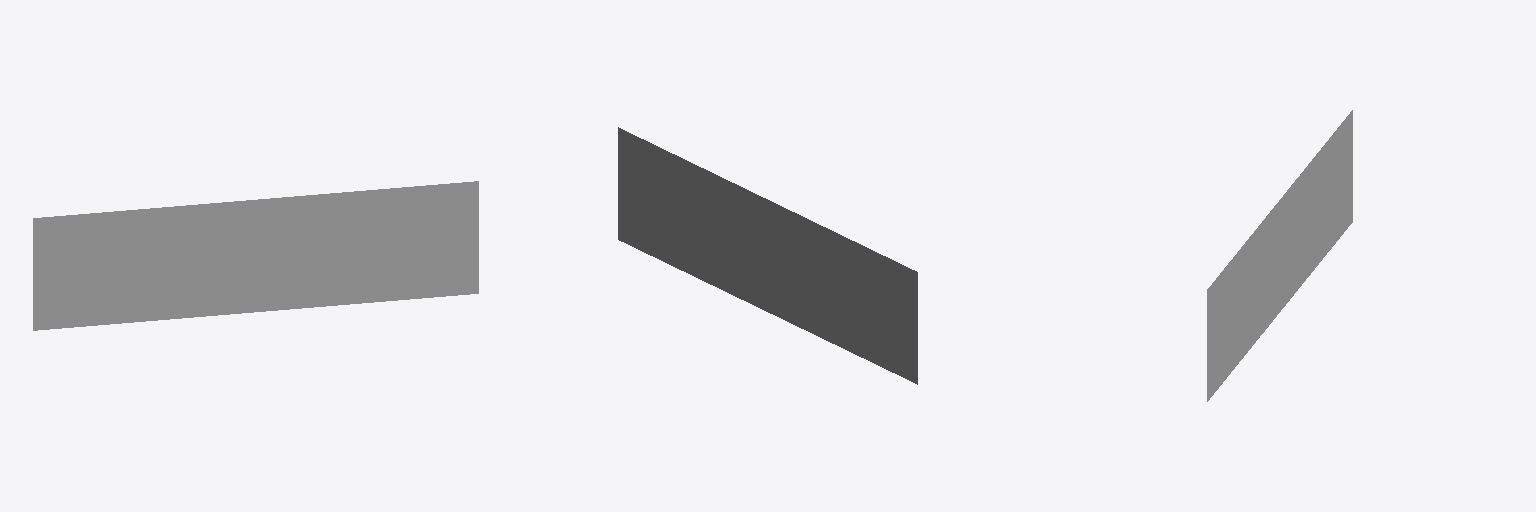
File: background.obj
The picture shows the model from 3 angles: view 1: azimuth 30°, elevation 25°; view 2: azimuth 150°, elevation 25°; view 3: azimuth 270°, elevation 25°; orthographic projection.
Parts seen in each view (by area): view 1: background:pPlane5; view 2: background:pPlane5; view 3: background:pPlane5.
Boxes of the visible parts, x1=… form: background:pPlane5: x1=33, y1=181, x2=478, y2=330; background:pPlane5: x1=618, y1=127, x2=917, y2=384; background:pPlane5: x1=1207, y1=110, x2=1352, y2=401.
Size of the model in its own units: 2425 by 701 by 827.